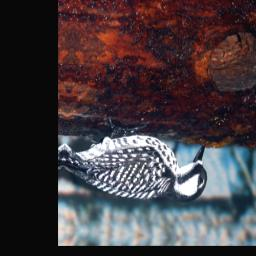Woodpecker: (61, 114, 217, 211)
